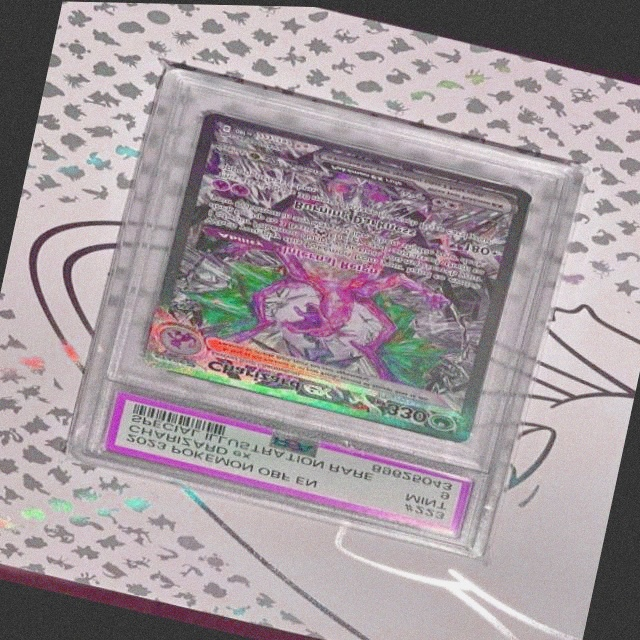card: (140, 105, 536, 440)
